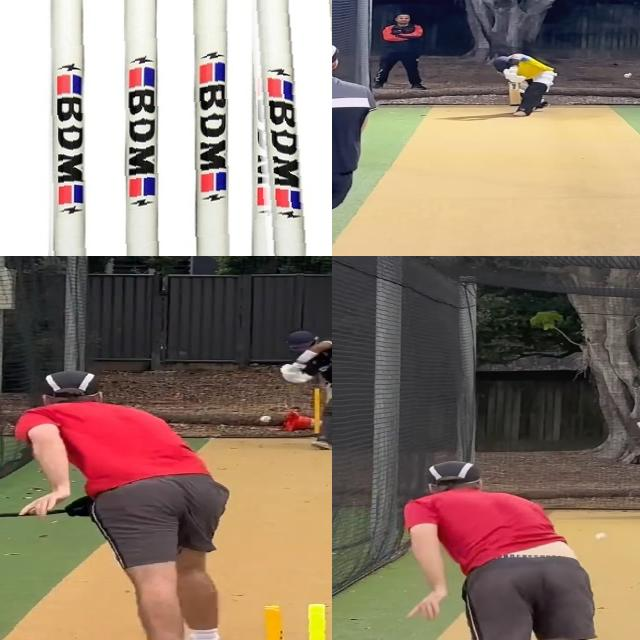Cricket ball: (594, 533, 607, 541), (258, 416, 273, 422), (623, 73, 633, 78)
Stumps: (44, 0, 234, 256), (245, 0, 332, 256)
